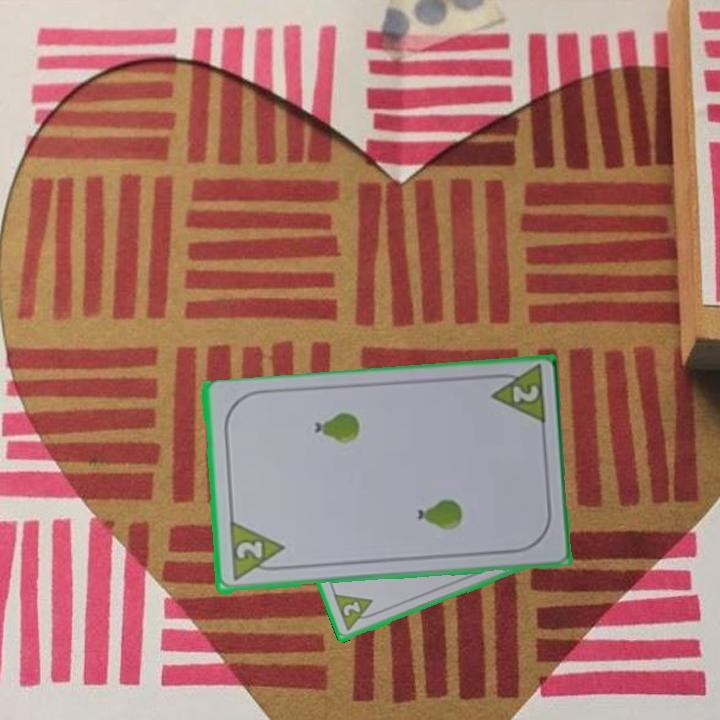2p: (484, 364, 548, 429), (330, 591, 380, 634), (232, 538, 266, 562)
